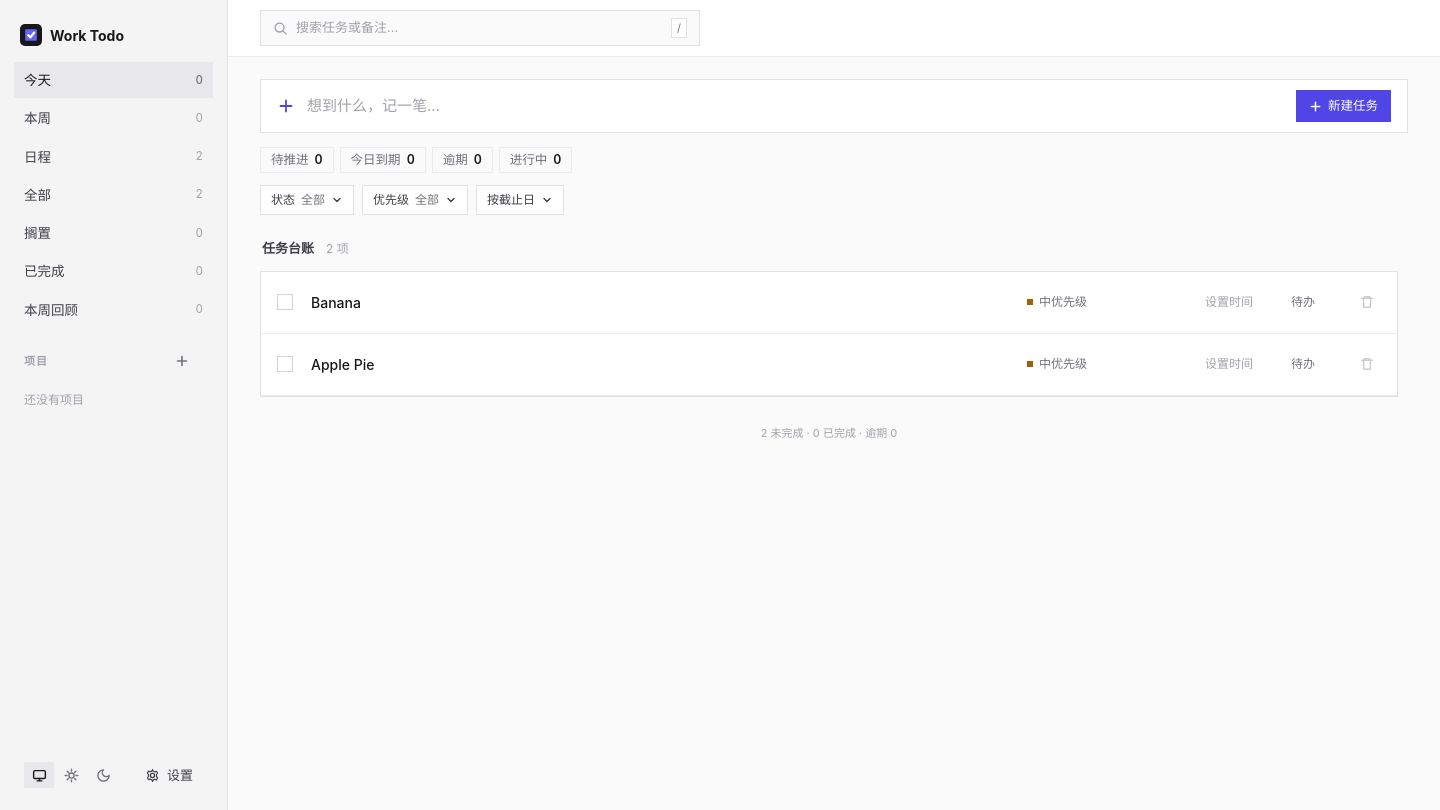
Test case: search input updates filters + clear › typing filters the list, clear restores it
In the field with id "search-input": point(478, 28) [296,18,659,38], type "apple"
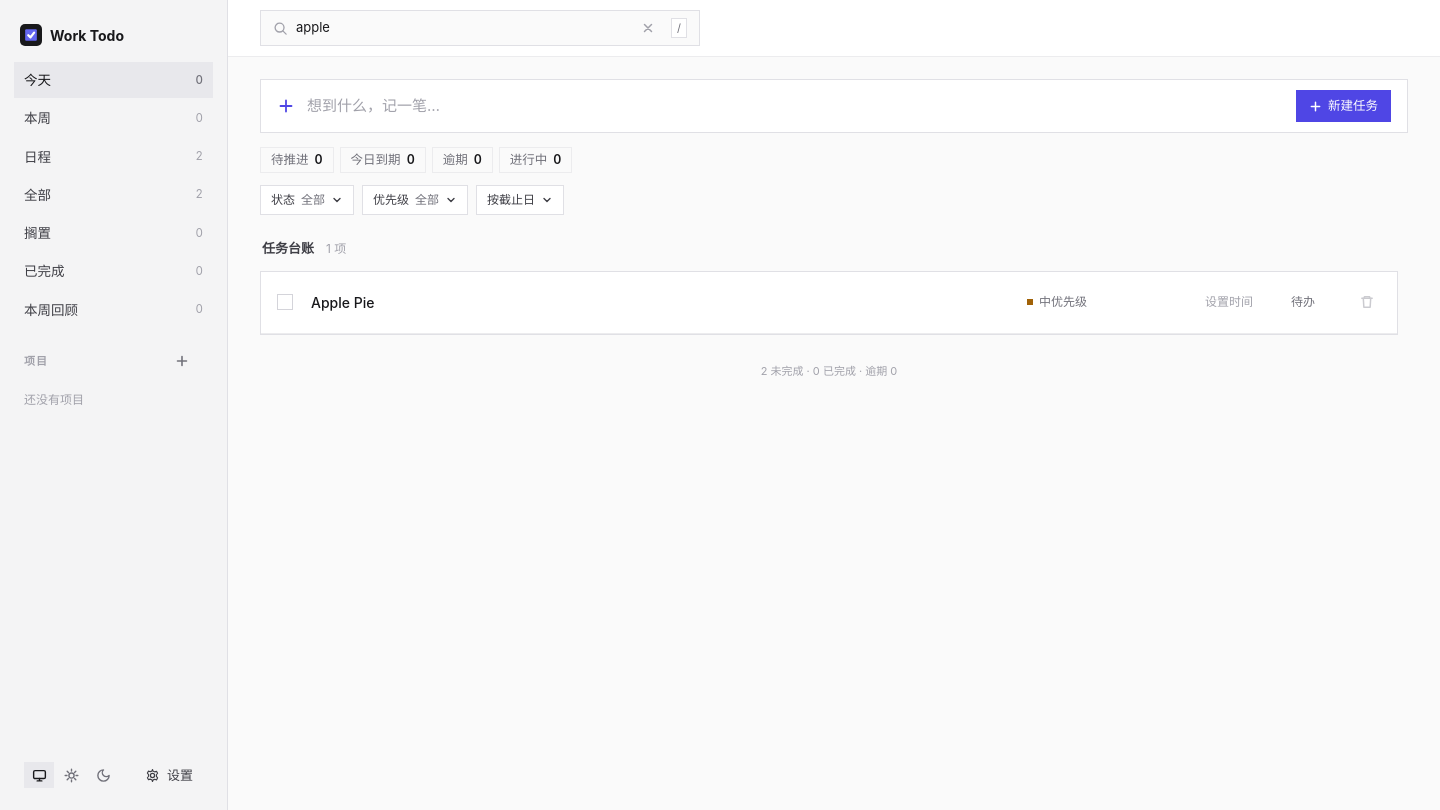
Click the button with id "btn-clear-search": point(648, 28) [637,17,659,39]
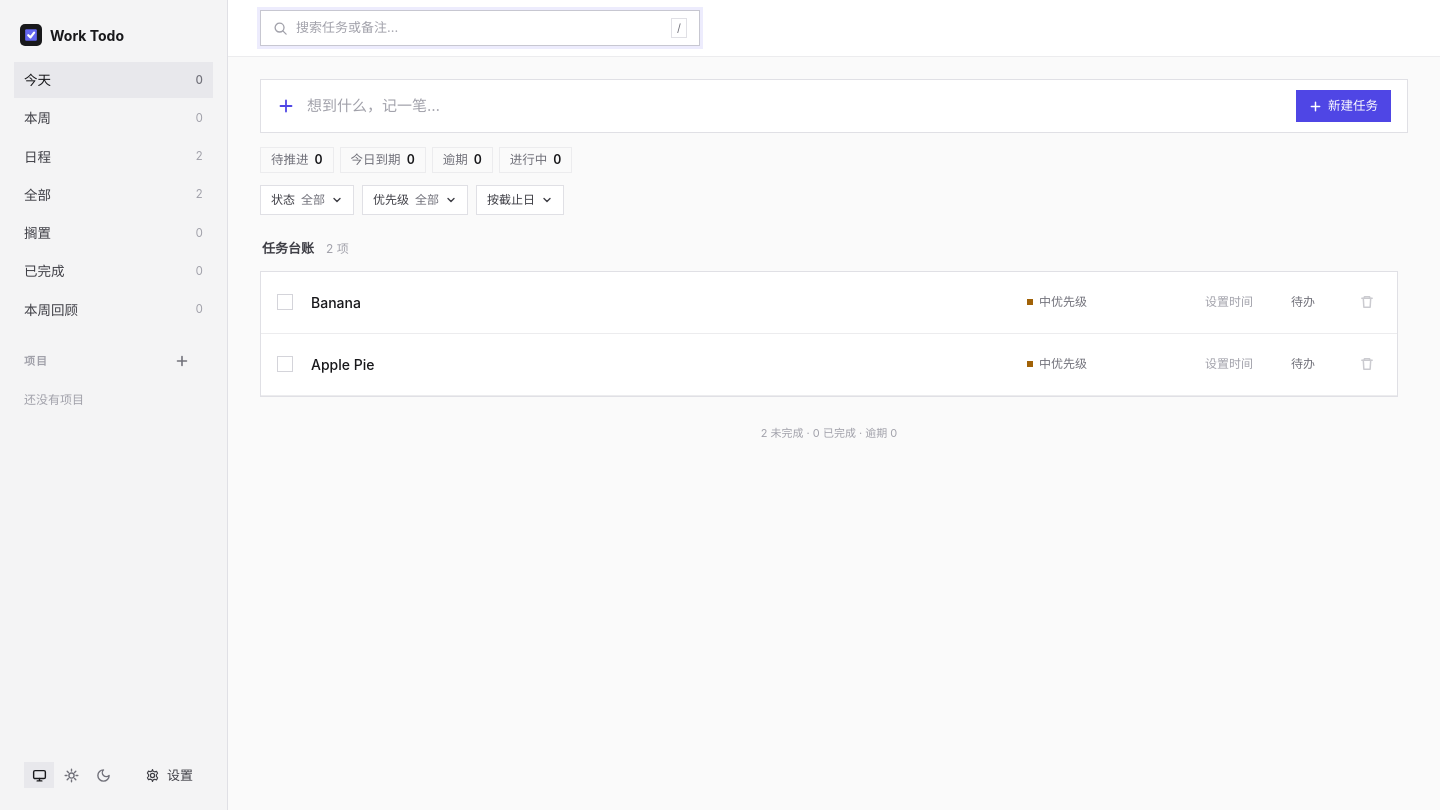
Expected: the field with id "search-input" is empty, [296,18,659,38]
